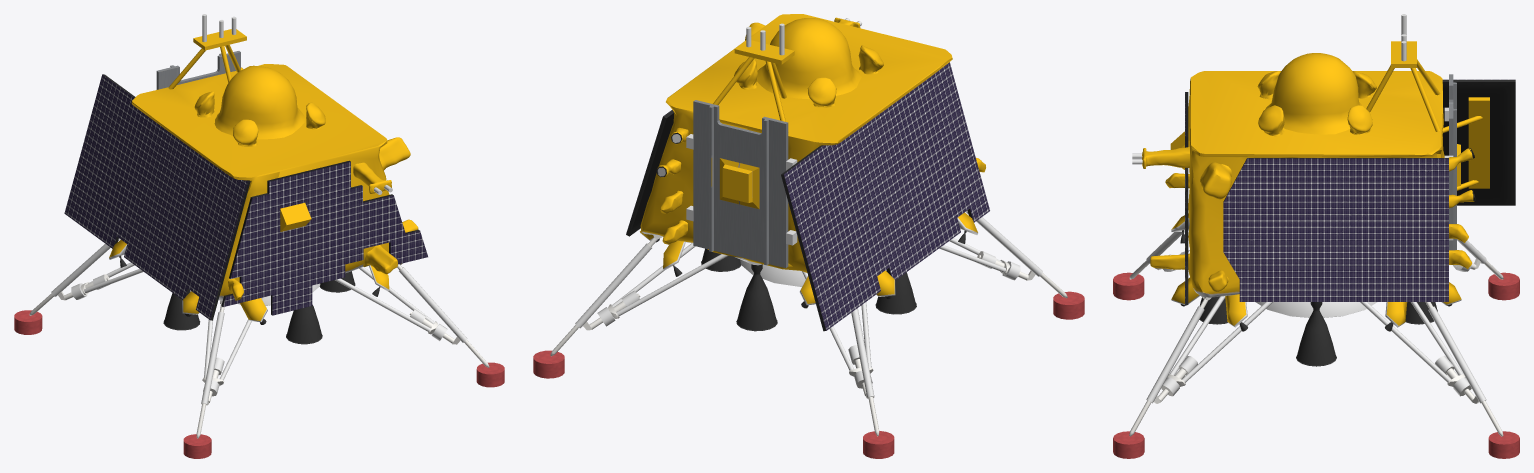
Rendered from chandrayan.glb.
3 renders of one model, left to right at view 1: azimuth 30°, elevation 25°; view 2: azimuth 150°, elevation 25°; view 3: azimuth 270°, elevation 25°, orthographic. The views are drawn at different scales.
Parts seen in each view (by area): view 1: Vikram.SolarPanel.Right, Vikram.SolarPanel.Back, Vikram.Body.Core.Foil, Vikram.BodyPart.004, Vikram.Foot.Pad.003, Vikram.Foot.Pad.002, Vikram.Foot.Pad.001, Vikram.Body.LRA, Vikram.BodyPart.ReactionWheels, Vikram.Ori.Nose, Vikram.Nose.003, Vikram.Door (+5 smaller); view 2: Vikram.SolarPanel.Right, Vikram.Body.Core.Foil, Vikram.Door, Vikram.BodyPart.004, Vikram.Foot.Pad.004, Vikram.Foot.Pad.002, Vikram.Foot.Pad.001, Vikram.Body.LRA, Vikram.BodyPart.ReactionWheels, Vikram.Nose.001, Vikram.Ori.Nose, Vikram.SolarPanel.Left (+3 smaller); view 3: Vikram.SolarPanel.Left, Vikram.Body.Core.Foil, Vikram.BodyPart.004, Vikram.SolarPanel.Right, Vikram.Foot.Pad.003, Vikram.Foot.Pad.004, Vikram.SolarPanel.Right.Holder, Vikram.BodyPart.ReactionWheels, Vikram.Ori.Nose, Vikram.Body.LRA, Vikram.Nose.004, Vikram.Foot.Pad.001 (+11 smaller).
Part boxes in pixels (bbox=[...]): Vikram.SolarPanel.Right: bbox=[64, 74, 250, 320]; Vikram.SolarPanel.Back: bbox=[221, 160, 427, 315]; Vikram.Body.Core.Foil: bbox=[131, 64, 389, 300]; Vikram.BodyPart.004: bbox=[214, 65, 304, 139]; Vikram.Foot.Pad.003: bbox=[335, 264, 504, 387]; Vikram.Foot.Pad.002: bbox=[183, 297, 263, 458]; Vikram.Foot.Pad.001: bbox=[14, 238, 143, 334]; Vikram.Body.LRA: bbox=[168, 14, 246, 89]; Vikram.BodyPart.ReactionWheels: bbox=[194, 91, 325, 146]; Vikram.Ori.Nose: bbox=[109, 240, 402, 324]; Vikram.Nose.003: bbox=[286, 304, 322, 344]; Vikram.Door: bbox=[156, 51, 240, 89]; Vikram.SolarPanel.Right: bbox=[781, 62, 989, 331]; Vikram.Body.Core.Foil: bbox=[640, 14, 952, 272]; Vikram.Door: bbox=[693, 100, 788, 268]; Vikram.BodyPart.004: bbox=[756, 18, 861, 99]; Vikram.Foot.Pad.004: bbox=[533, 237, 728, 378]; Vikram.Foot.Pad.002: bbox=[939, 210, 1084, 319]; Vikram.Foot.Pad.001: bbox=[802, 271, 894, 458]; Vikram.Body.LRA: bbox=[713, 23, 794, 121]; Vikram.BodyPart.ReactionWheels: bbox=[734, 45, 883, 107]; Vikram.Nose.001: bbox=[736, 264, 777, 331]; Vikram.Ori.Nose: bbox=[640, 212, 977, 308]; Vikram.SolarPanel.Left: bbox=[626, 110, 674, 236]; Vikram.SolarPanel.Left: bbox=[1223, 158, 1448, 301]; Vikram.Body.Core.Foil: bbox=[1188, 71, 1444, 297]; Vikram.BodyPart.004: bbox=[1265, 53, 1361, 134]; Vikram.SolarPanel.Right: bbox=[1442, 79, 1515, 205]; Vikram.Foot.Pad.003: bbox=[1113, 296, 1272, 458]; Vikram.Foot.Pad.004: bbox=[1360, 302, 1519, 458]; Vikram.SolarPanel.Right.Holder: bbox=[1442, 97, 1489, 190]; Vikram.BodyPart.ReactionWheels: bbox=[1257, 71, 1376, 136]; Vikram.Ori.Nose: bbox=[1171, 213, 1461, 331]; Vikram.Body.LRA: bbox=[1366, 14, 1440, 131]; Vikram.Nose.004: bbox=[1296, 302, 1336, 366]; Vikram.Foot.Pad.001: bbox=[1453, 239, 1519, 300].
Bounding box in the file's own units: 3.28 × 3.11 × 3.28.
1 material, 1 textured.
